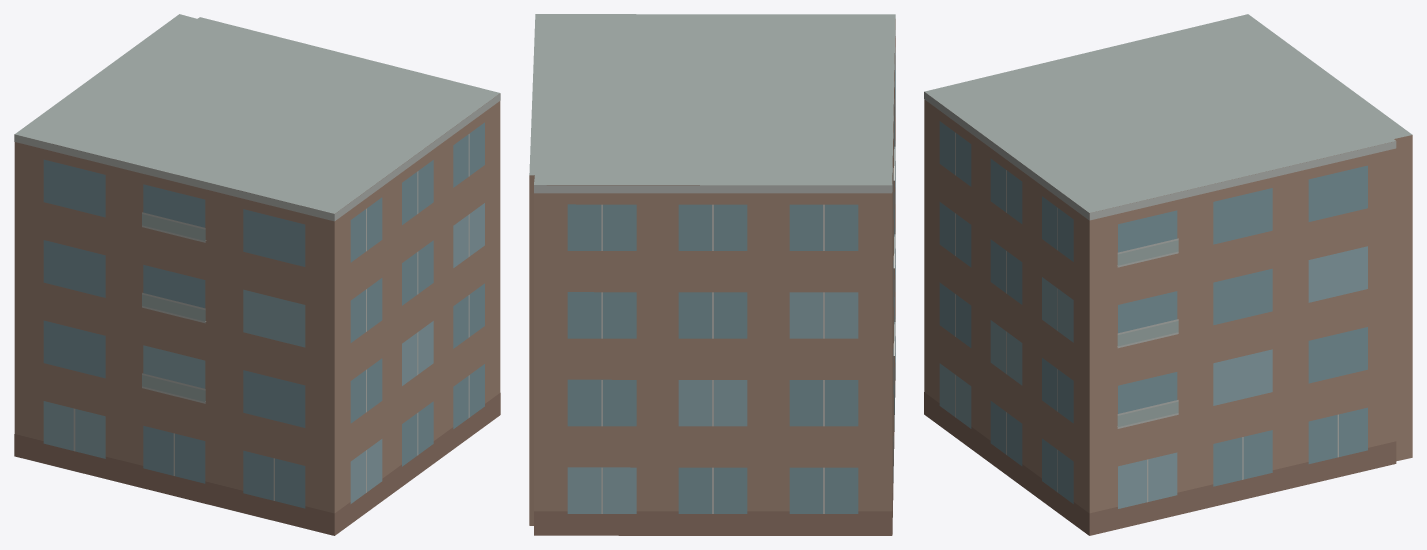
Rendered from survey-upis-32658036.glb.
3 views of the same model, side by side, from view 1: azimuth 30°, elevation 25°; view 2: azimuth 150°, elevation 25°; view 3: azimuth 270°, elevation 25° (orthographic). The views are drawn at different scales.
Parts seen in each view (by area): view 1: survey-upis-32658036.tmp; view 2: survey-upis-32658036.tmp; view 3: survey-upis-32658036.tmp.
Part boxes in pixels (bbox=[...]): survey-upis-32658036.tmp: bbox=[14, 14, 500, 535]; survey-upis-32658036.tmp: bbox=[529, 14, 895, 535]; survey-upis-32658036.tmp: bbox=[924, 14, 1412, 535].
Size of the model in its own units: 13.9 by 10.5 by 14.41.
